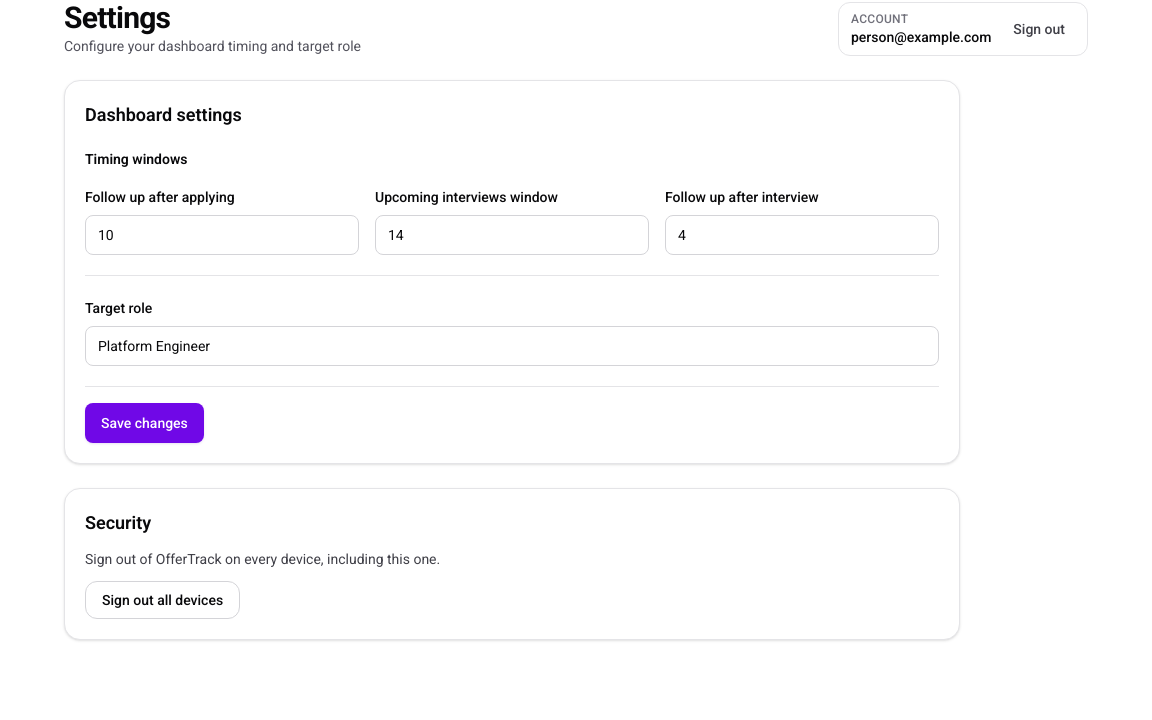
it: SettingsPage auth gate › keeps the session when logout-all confirmation is dismissed with Cancel
expect the heading "Dashboard settings" is shown: met, box [85,104,242,125]
expect the text "Sign out of OfferTrack on every device, including this one." is shown: met, box [85,551,440,567]
Click the button "Sign out all devices". click: {"x": 163, "y": 600}
box: [85,581,240,619]
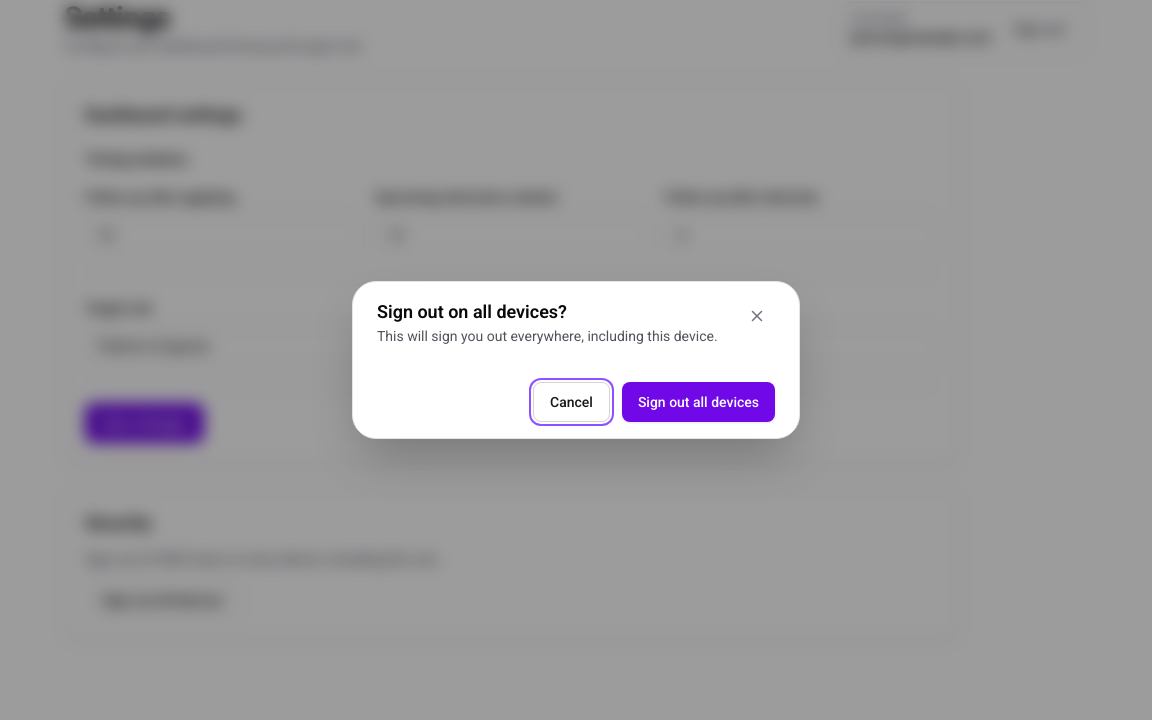
Click the button "Cancel". click: {"x": 571, "y": 402}
box: [533,382,610,422]
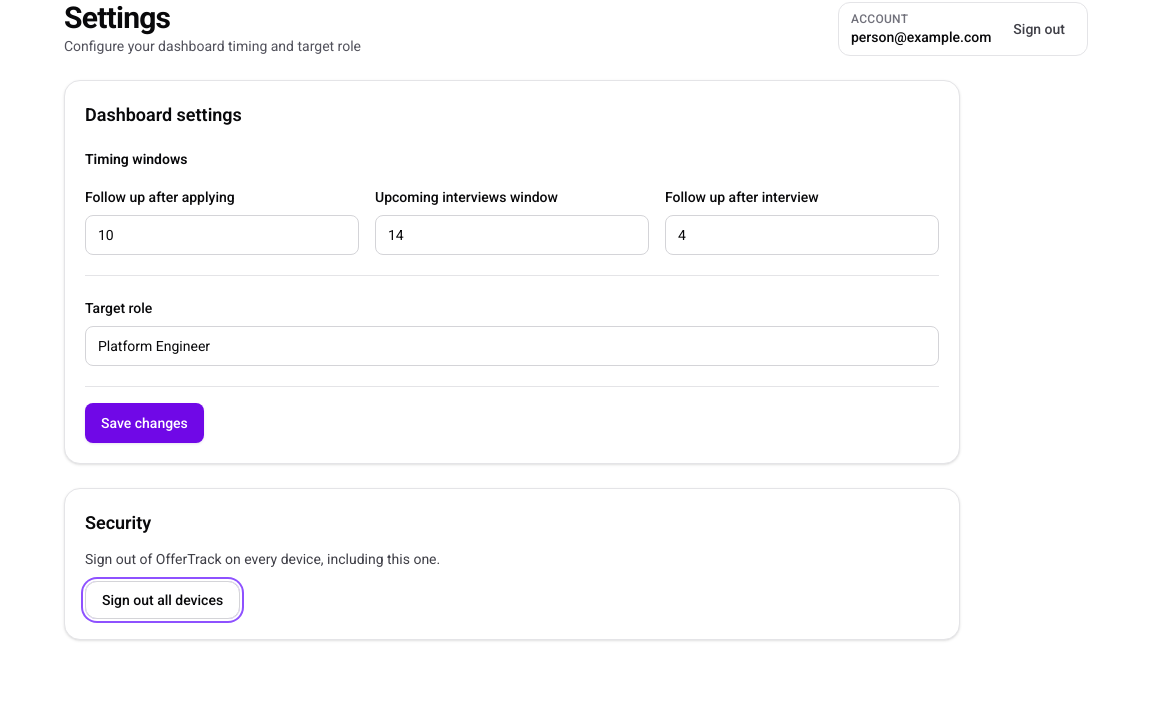
expect the dialog is gone: met
